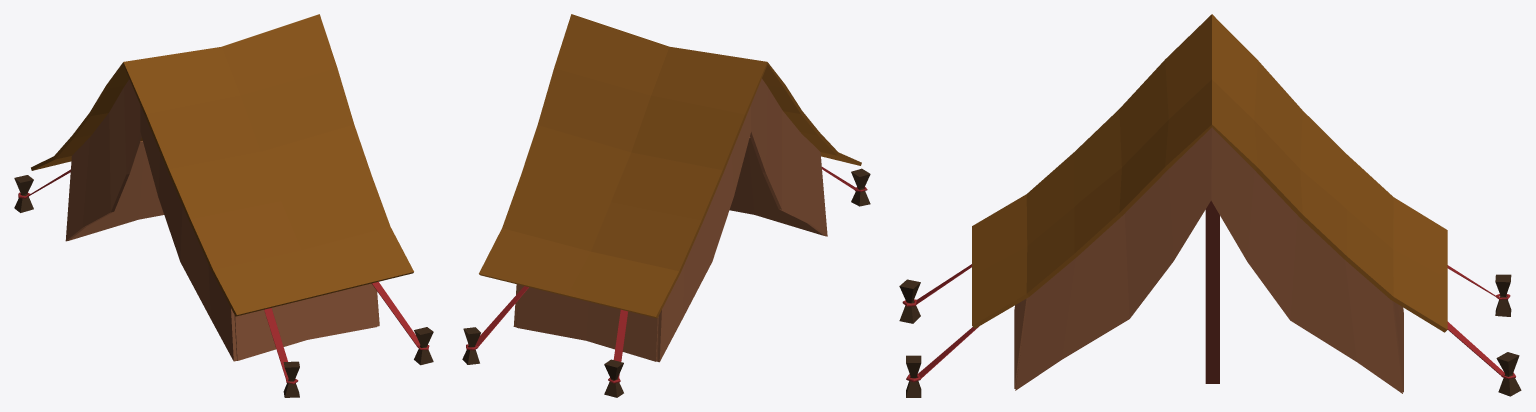
Rendered from alextent.fbx.
3 renders of one model, left to right at view 1: azimuth 30°, elevation 25°; view 2: azimuth 150°, elevation 25°; view 3: azimuth 270°, elevation 25°, orthographic. The views are drawn at different scales.
Visible parts, largest first — view 1: Plane.003; view 2: Plane.003; view 3: Plane.003.
Boxes of the visible parts, x1,y1,x2,y2 form: Plane.003: (14,14,433,397); Plane.003: (462,14,870,397); Plane.003: (899,14,1521,397).
Bounding box in the file's own units: 200 × 240 × 476.
